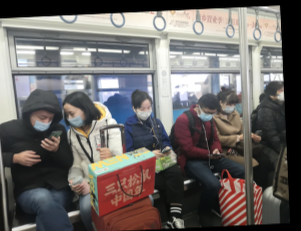with_mask: (63, 108, 86, 130), (30, 111, 53, 132), (136, 102, 153, 121), (197, 107, 216, 123), (222, 101, 235, 115), (273, 87, 284, 101)
